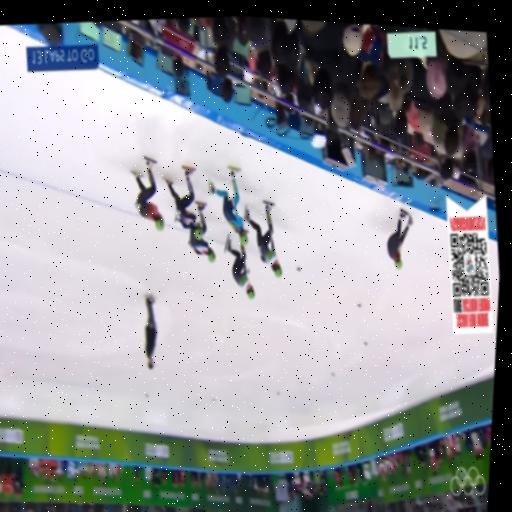Skater: (208, 166, 247, 244), (165, 166, 204, 239), (245, 201, 282, 276), (133, 157, 164, 229), (224, 234, 254, 298), (387, 208, 412, 268), (189, 224, 215, 261)
